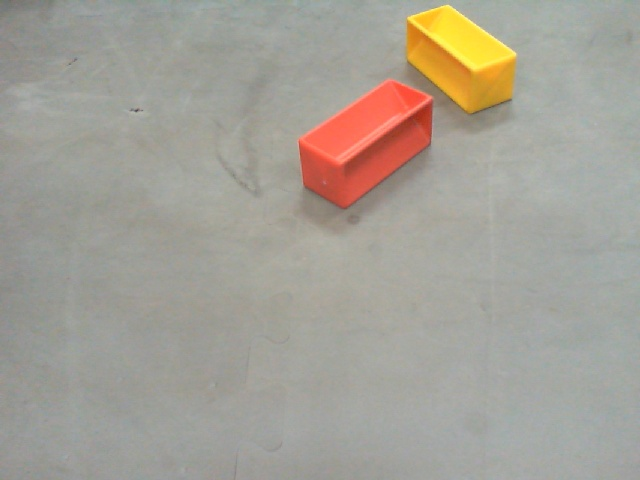RedSample: (298, 76, 434, 210)
YellowSample: (405, 4, 523, 116)
